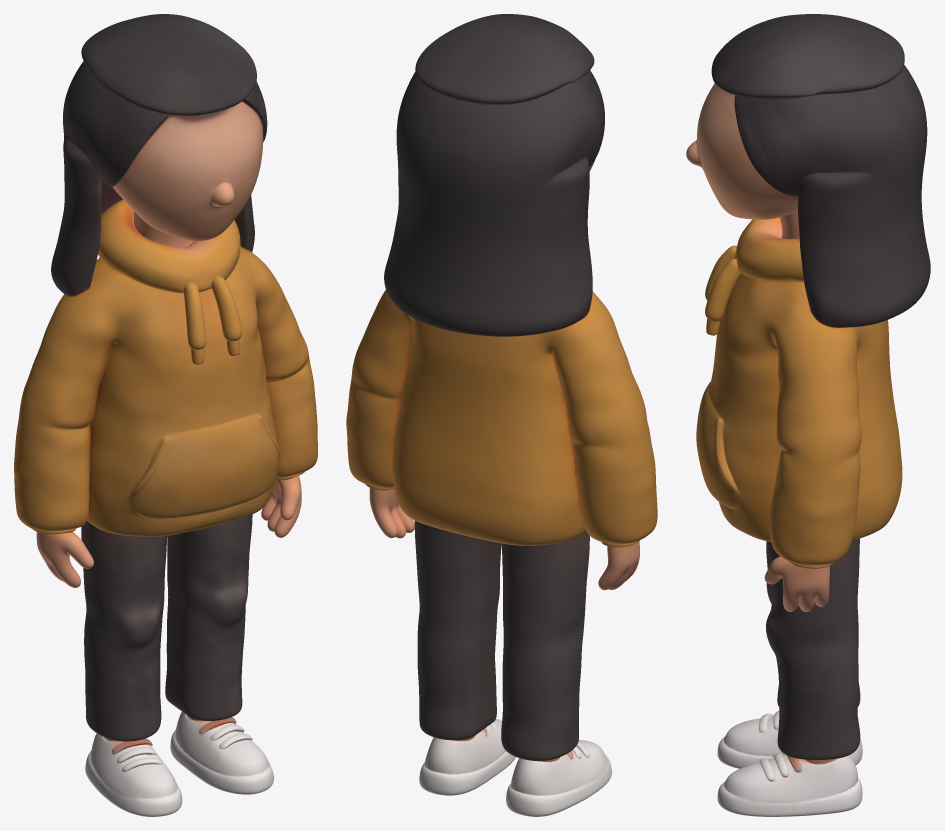
Rendered from haru_blank.glb.
3 renders of one model, left to right at view 1: azimuth 30°, elevation 25°; view 2: azimuth 150°, elevation 25°; view 3: azimuth 270°, elevation 25°, orthographic. The views are drawn at different scales.
Parts seen in each view (by area): view 1: model; view 2: model; view 3: model.
Part boxes in pixels (box(x1,y1,x2,y2)): model: box(14, 14, 317, 816); model: box(346, 14, 657, 816); model: box(686, 14, 930, 816).
Bounding box in the file's own units: 0.7807 × 1.9 × 0.5548.
Materials: 1 (1 with a texture image).
